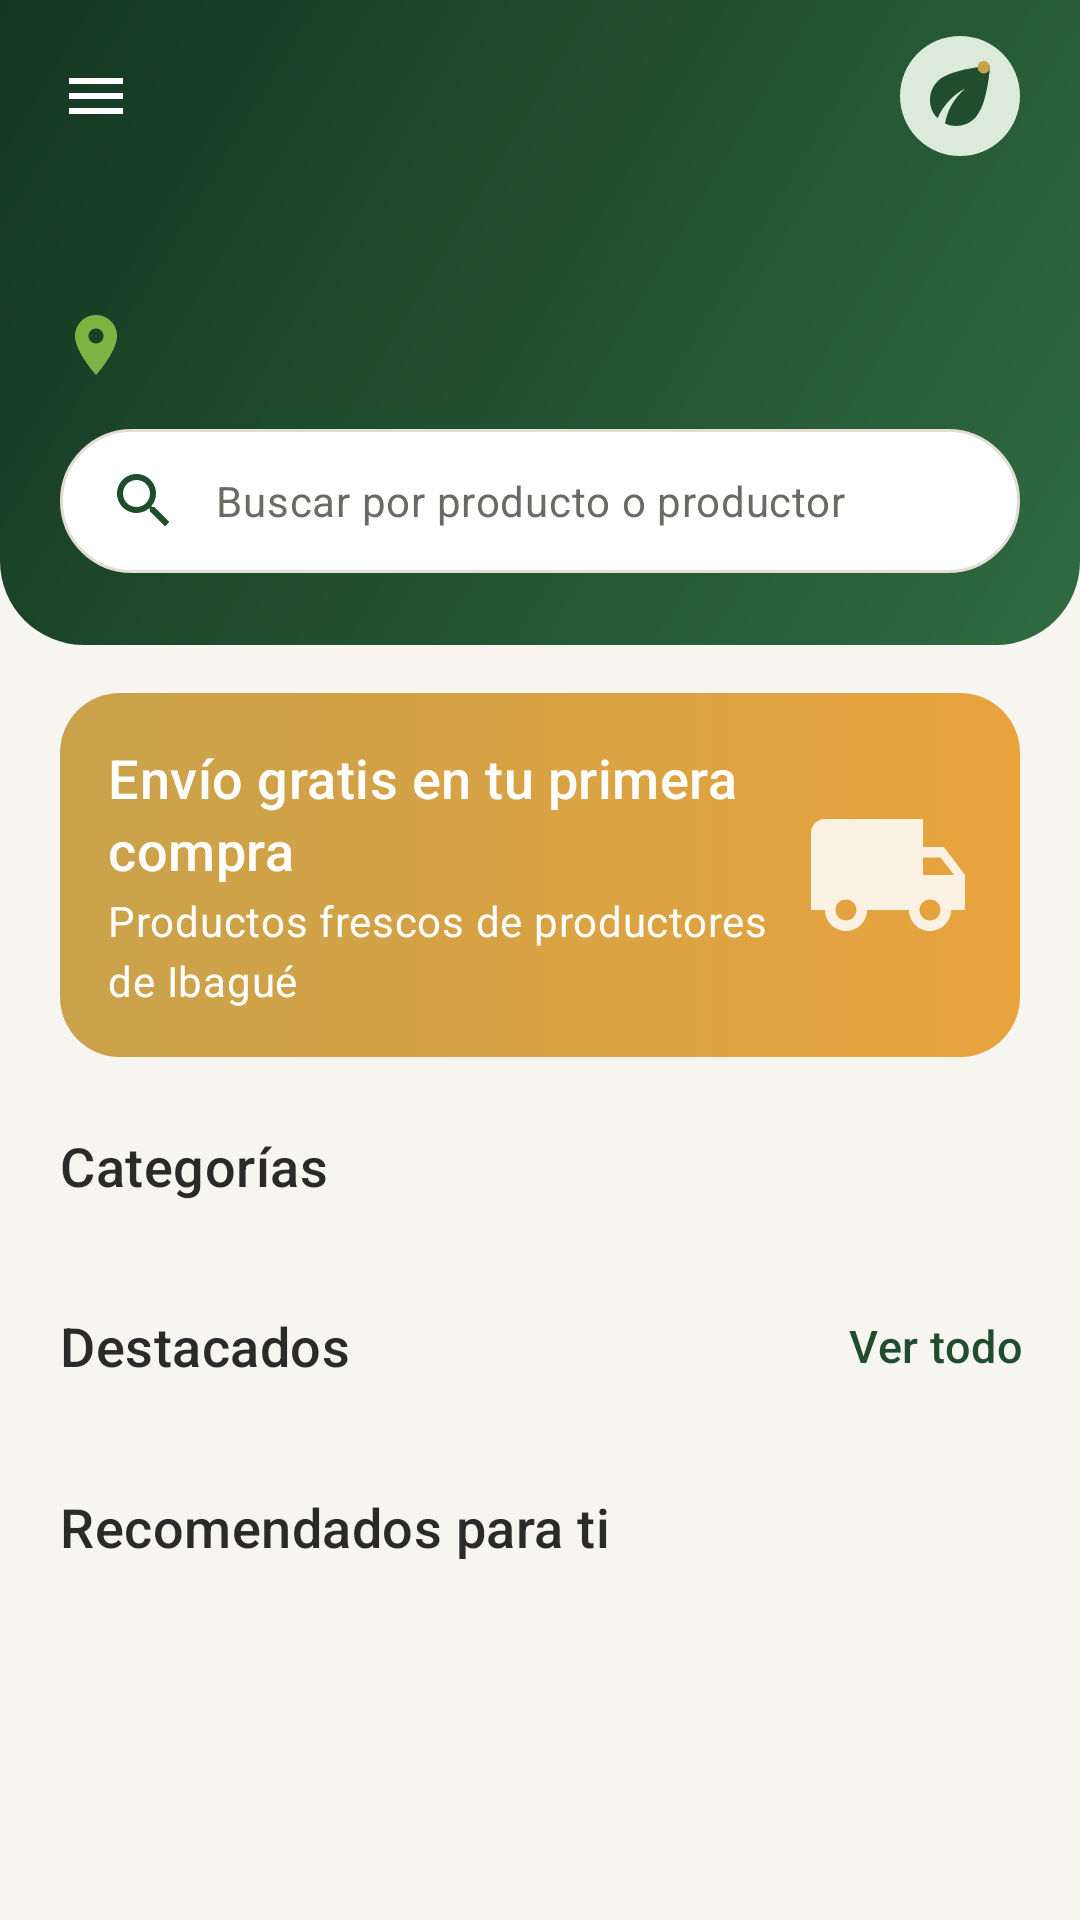

Icons on this 1080 x 1920 Android screen, each with the point to tap as point (x, y):
Abrir menú: point (96, 96)
envio: point (888, 875)
